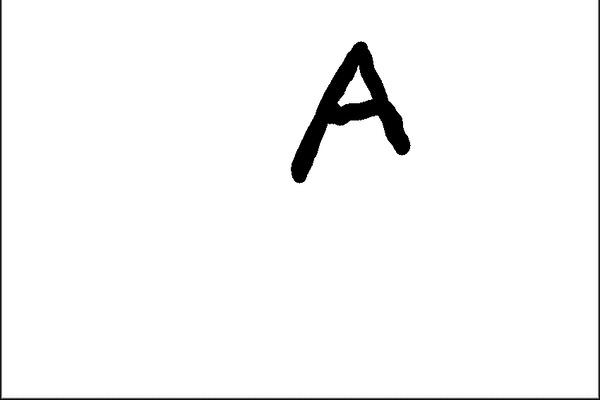A: (275, 25, 424, 191)
